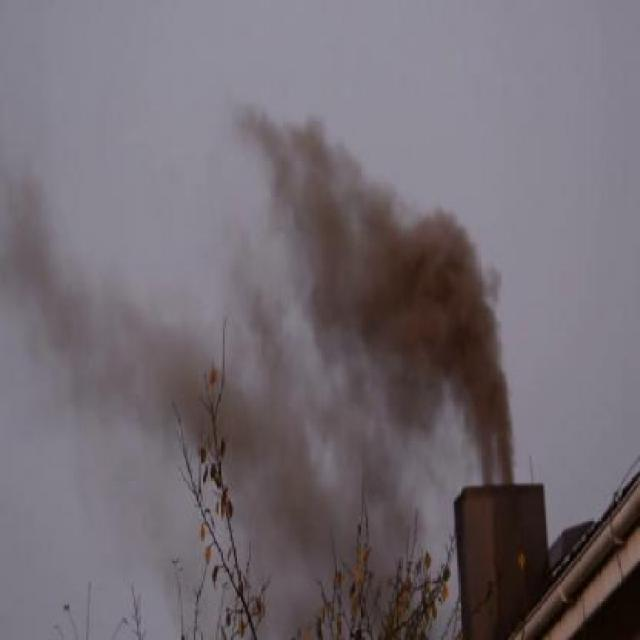smoke: (223, 94, 526, 486), (6, 112, 180, 468)
